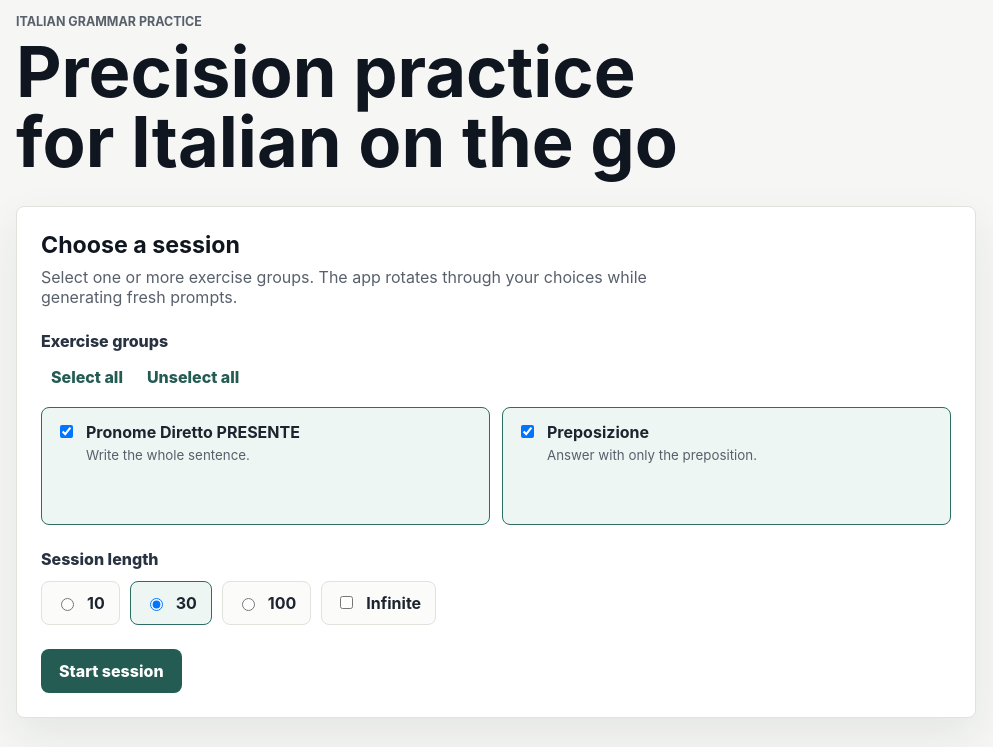
App › starts a session and generates an exercise for the selected group
Expected: the checkbox labelled "Pronome Diretto PRESENTE Write the whole sentence." is shown, left=60, top=425, right=73, bottom=438
What coordinates should you click on to do the following:
click the button "Start session"
I would click on:
 (111, 671)
Its box is left=41, top=649, right=182, bottom=693.
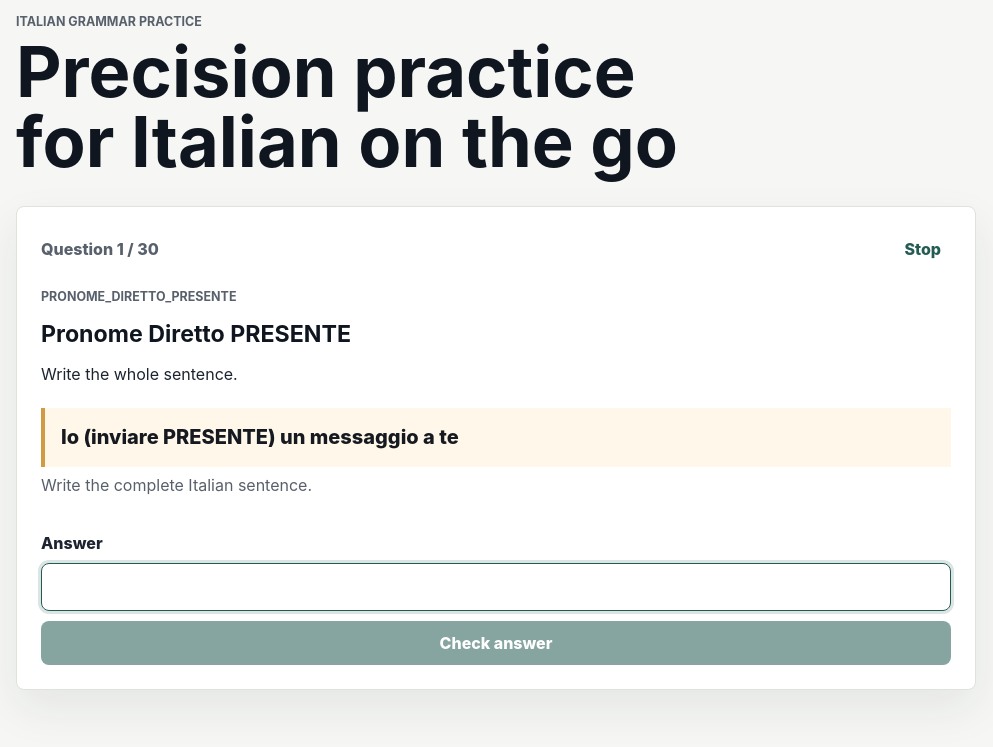
Result: the text "Io (inviare PRESENTE) un messaggio a te" is shown at left=41, top=408, right=951, bottom=467
Result: the text "Question 1 / 30" is shown at left=41, top=239, right=159, bottom=259
Result: the text "Write the complete Italian sentence." is shown at left=41, top=475, right=312, bottom=495
